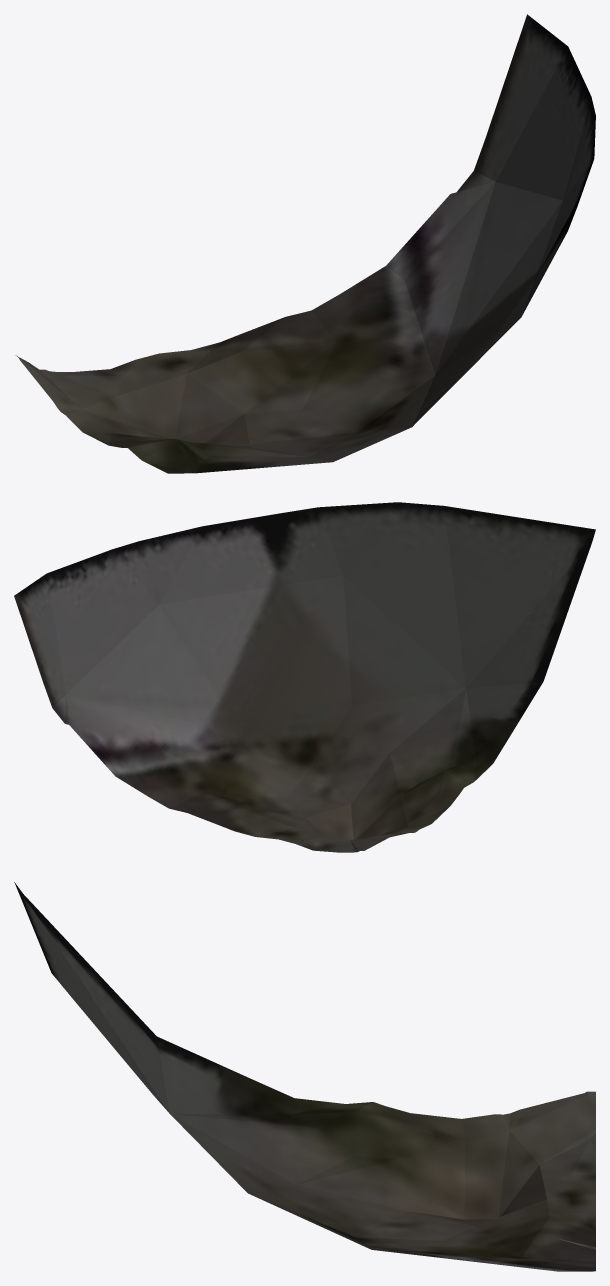
3 views of the same model, one above another, from view 1: azimuth 30°, elevation 25°; view 2: azimuth 150°, elevation 25°; view 3: azimuth 270°, elevation 25° (orthographic). The views are drawn at different scales.
Bounding box in the file's own units: 1.3 × 0.7099 × 1.31.
1 material, 1 textured.
